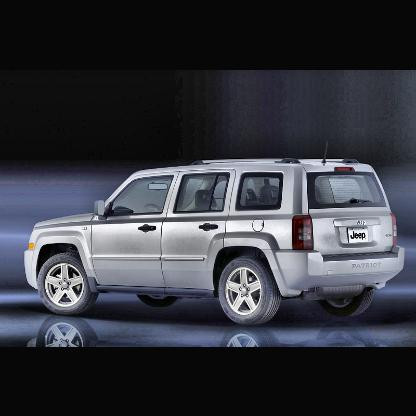Jeep Patriot SUV 2012: (23, 156, 411, 329)
